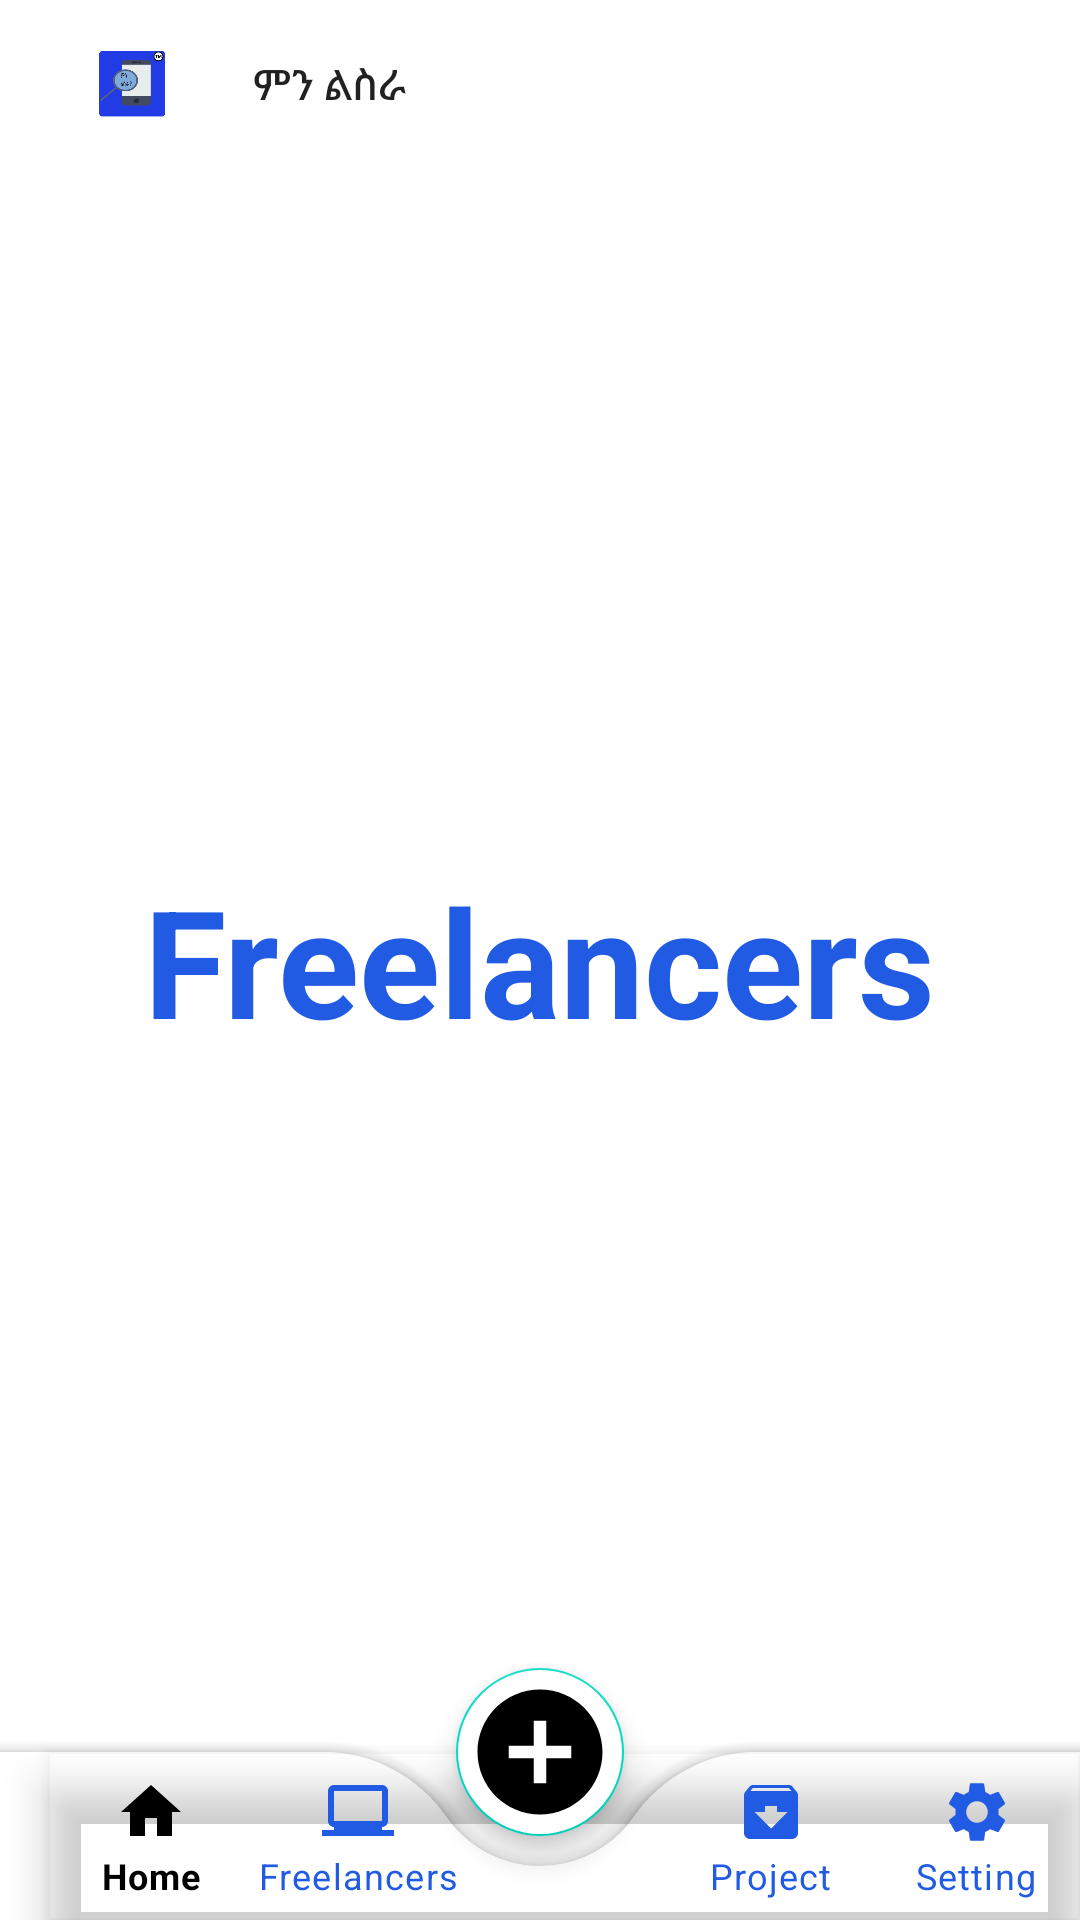

Icon bounding boxes for this 1080*1920 phone screenshot, format (x1, y1, x2, y2):
plus: (477, 1689, 603, 1815)
